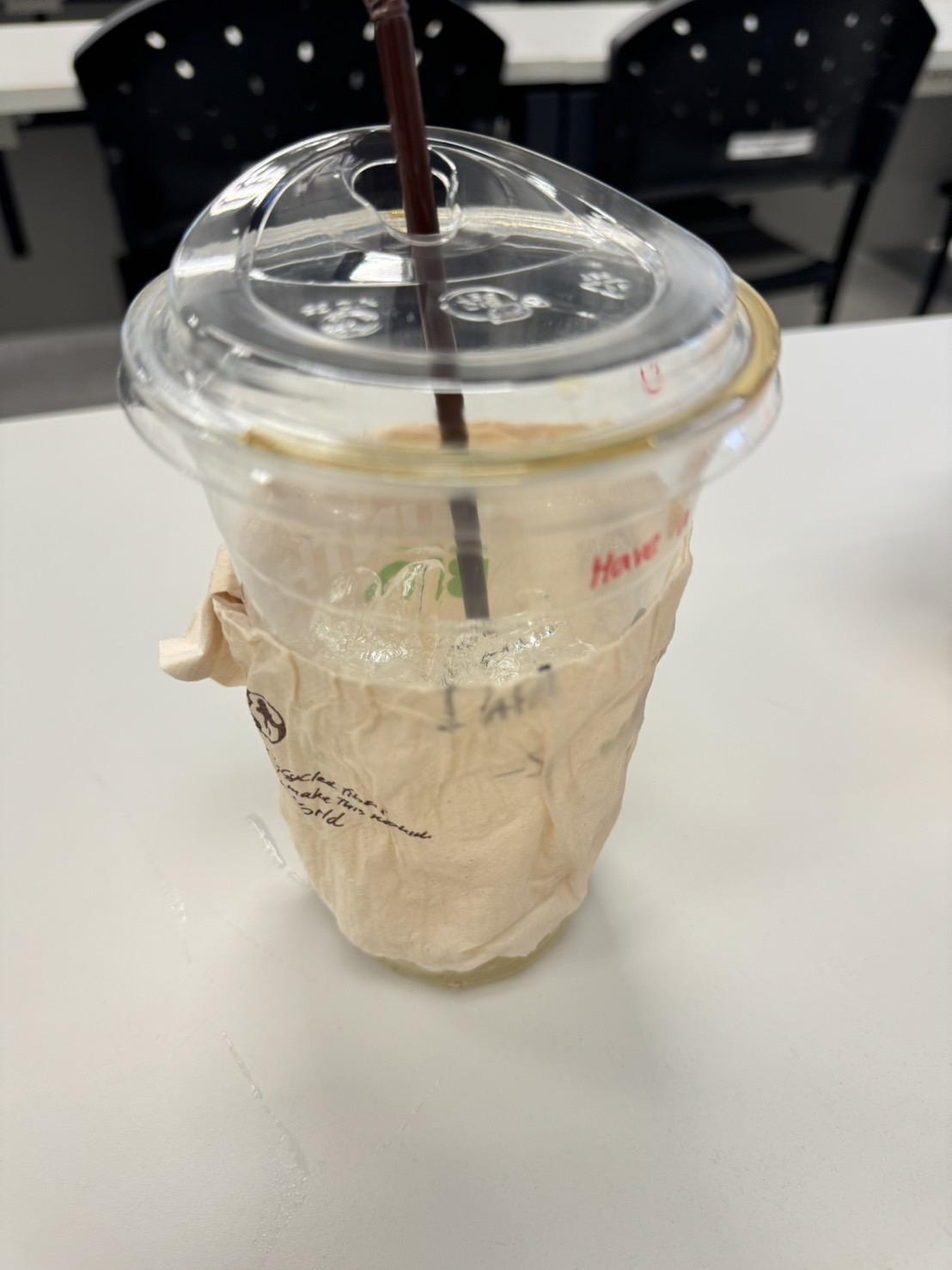cup: (120, 127, 778, 977)
